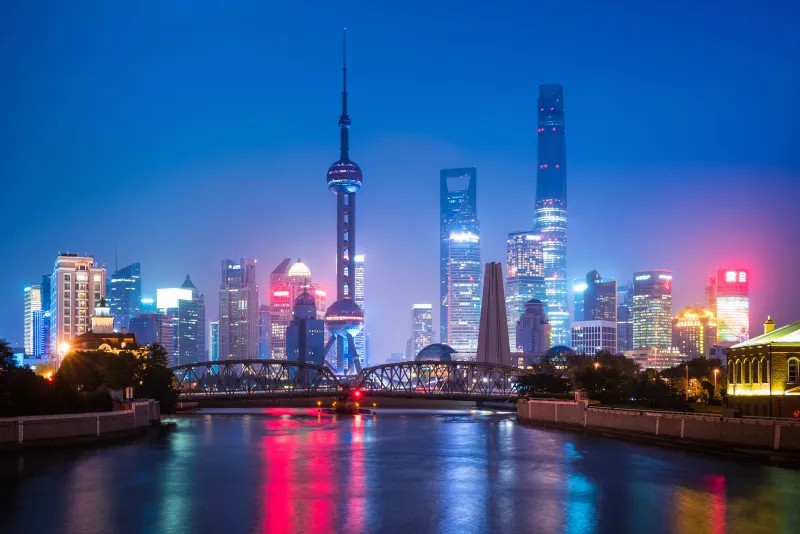Oriental: (323, 27, 363, 371)
